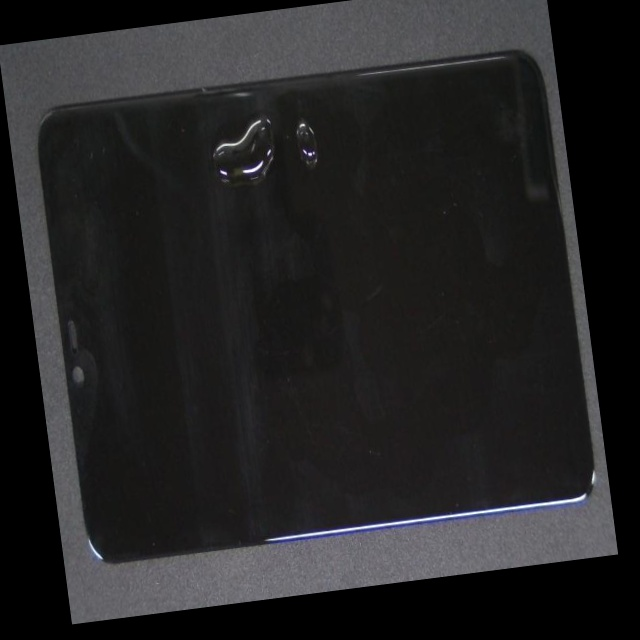oil: (159, 33, 451, 190), (140, 98, 413, 223)
